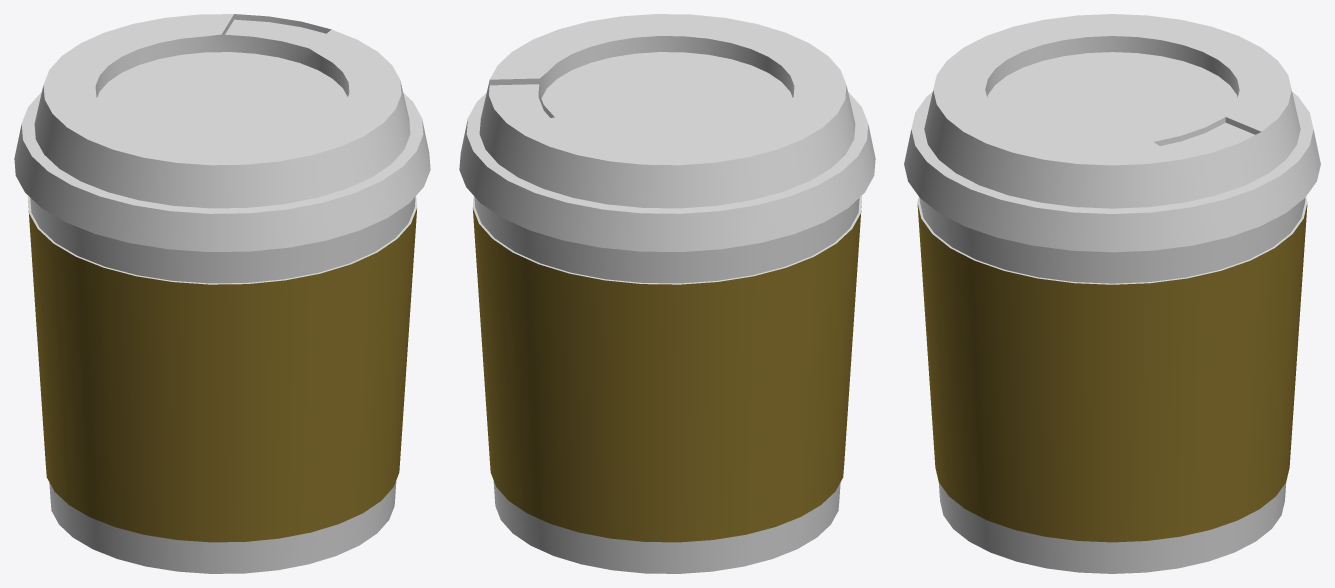
The model's file is Coffee.fbx.
The picture shows the model from 3 angles, left to right: view 1: azimuth 30°, elevation 25°; view 2: azimuth 150°, elevation 25°; view 3: azimuth 270°, elevation 25°; orthographic projection.
Parts seen in each view (by area): view 1: Circle; view 2: Circle; view 3: Circle.
Part boxes in pixels (x1,y1,x2,y2): Circle: (14,14,430,573); Circle: (459,14,875,573); Circle: (904,14,1320,573).
Bounding box in the file's own units: 220 × 239 × 220.
